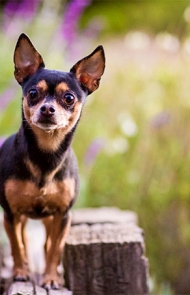dog: (1, 32, 104, 288)
